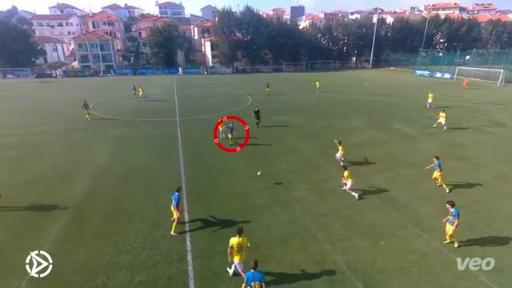highlight_overlay: (213, 114, 252, 156)
